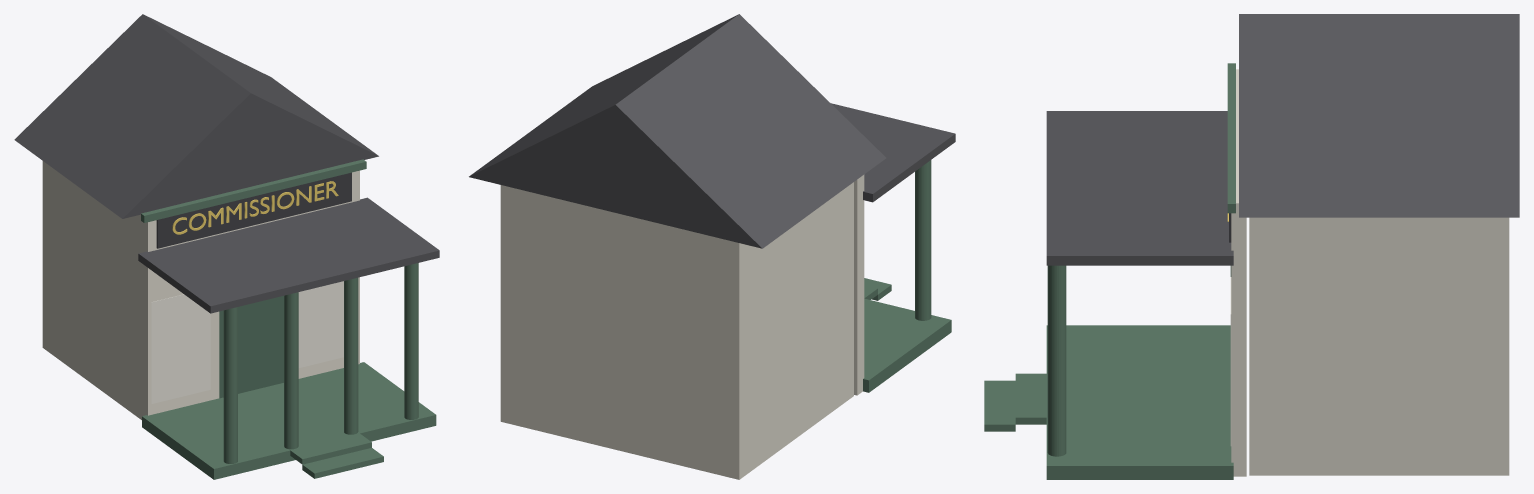
Rendered from GoldCommissionerOffice.fbx.
3 views of the same model, side by side, from view 1: azimuth 30°, elevation 25°; view 2: azimuth 150°, elevation 25°; view 3: azimuth 270°, elevation 25° (orthographic). The views are drawn at different scales.
Visible parts, largest first — view 1: Office_Roof, Office_Walls, Office_PorchRoof, Office_PorchFloor, Office_WindowFrame_L, Office_FalseFront, Office_SignBoard, Office_Door, Office_WindowFrame_R, Office_Cornice, Office_PorchPost_1, Office_PorchPost_2 (+5 smaller); view 2: Office_Walls, Office_Roof, Office_PorchRoof, Office_PorchFloor, Office_PorchPost_0, Office_FalseFront; view 3: Office_Walls, Office_Roof, Office_PorchRoof, Office_PorchFloor, Office_FalseFront, Office_PorchPost_3, Office_Step_1, Office_Step_0, Office_Cornice.
Part boxes in pixels (bbox=[...]): Office_Roof: bbox=[14, 14, 378, 218]; Office_Walls: bbox=[42, 161, 141, 419]; Office_PorchRoof: bbox=[138, 197, 439, 313]; Office_PorchFloor: bbox=[142, 362, 436, 479]; Office_WindowFrame_L: bbox=[151, 294, 210, 403]; Office_FalseFront: bbox=[142, 170, 359, 415]; Office_SignBoard: bbox=[156, 172, 351, 248]; Office_Door: bbox=[219, 296, 283, 398]; Office_WindowFrame_R: bbox=[298, 281, 343, 367]; Office_Cornice: bbox=[141, 159, 366, 222]; Office_PorchPost_1: bbox=[284, 292, 298, 449]; Office_PorchPost_2: bbox=[344, 277, 358, 434]; Office_Walls: bbox=[500, 182, 853, 479]; Office_Roof: bbox=[469, 14, 885, 248]; Office_PorchRoof: bbox=[831, 103, 955, 202]; Office_PorchFloor: bbox=[863, 298, 951, 392]; Office_PorchPost_0: bbox=[915, 160, 931, 320]; Office_FalseFront: bbox=[854, 174, 864, 395]; Office_Walls: bbox=[1249, 217, 1509, 475]; Office_Roof: bbox=[1239, 14, 1519, 217]; Office_PorchRoof: bbox=[1046, 111, 1233, 265]; Office_PorchFloor: bbox=[1046, 325, 1233, 479]; Office_FalseFront: bbox=[1231, 69, 1246, 476]; Office_PorchPost_3: bbox=[1047, 265, 1066, 456]; Office_Step_1: bbox=[984, 380, 1015, 431]; Office_Step_0: bbox=[1015, 373, 1046, 424]; Office_Cornice: bbox=[1227, 63, 1235, 213].
Bounding box in the file's own units: 370 × 420 × 515.
